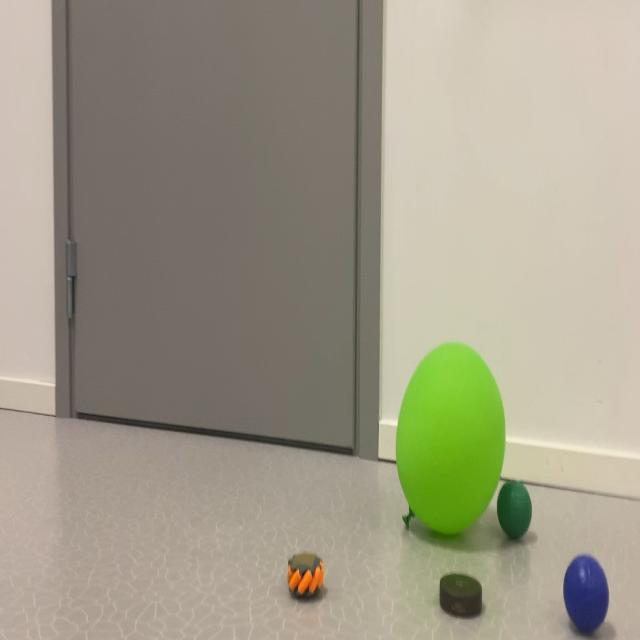green ball: (557, 533, 626, 640)
red ball: (492, 459, 546, 565)
